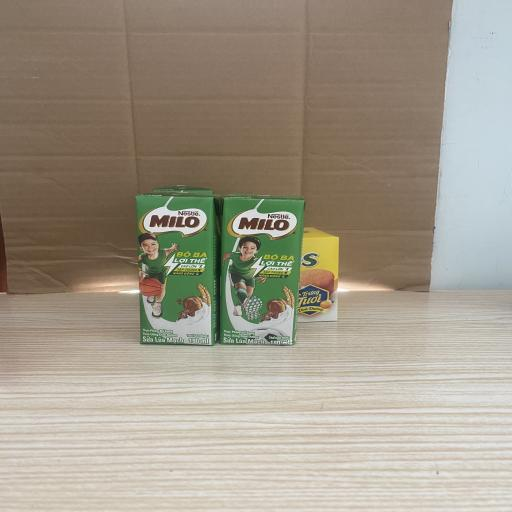custas: (297, 227, 339, 322)
milo: (136, 191, 221, 346), (220, 194, 305, 346)
